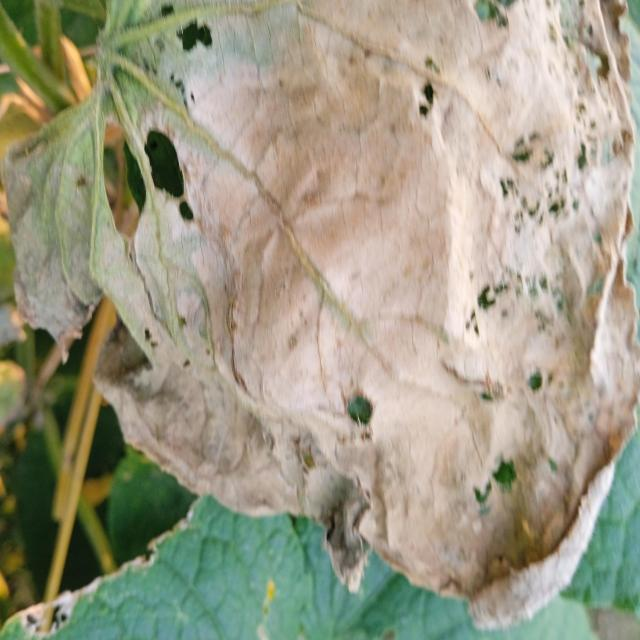cucumber_anthracnose: (99, 22, 631, 594)
